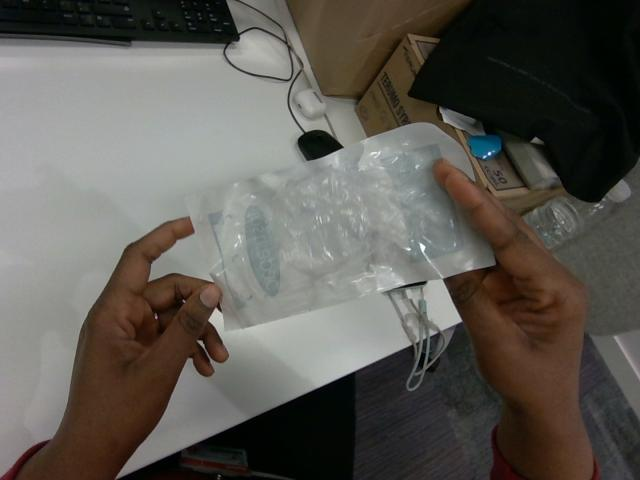gallipot: (188, 123, 493, 329)
